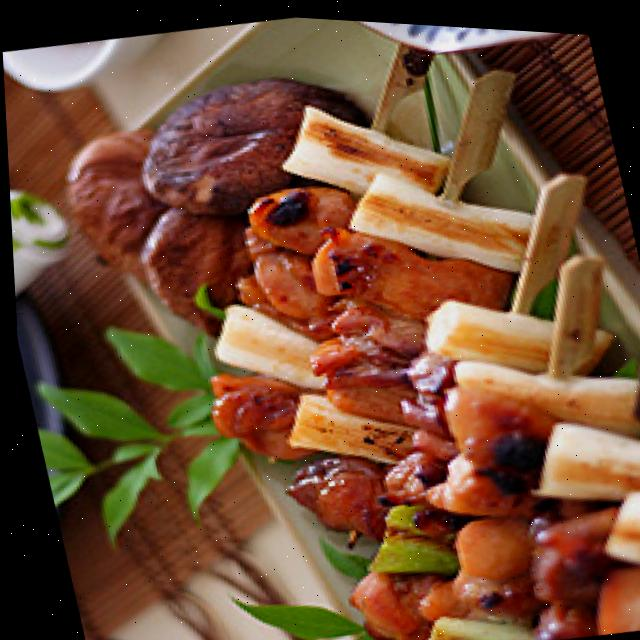烧串烤肉: (122, 17, 640, 640)
